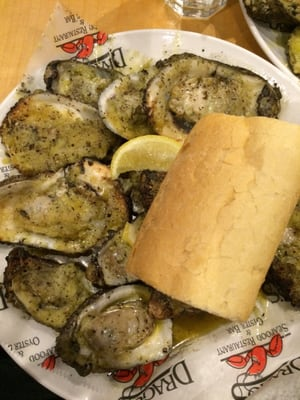soup: (127, 110, 300, 322)
sushi: (238, 0, 300, 86)
